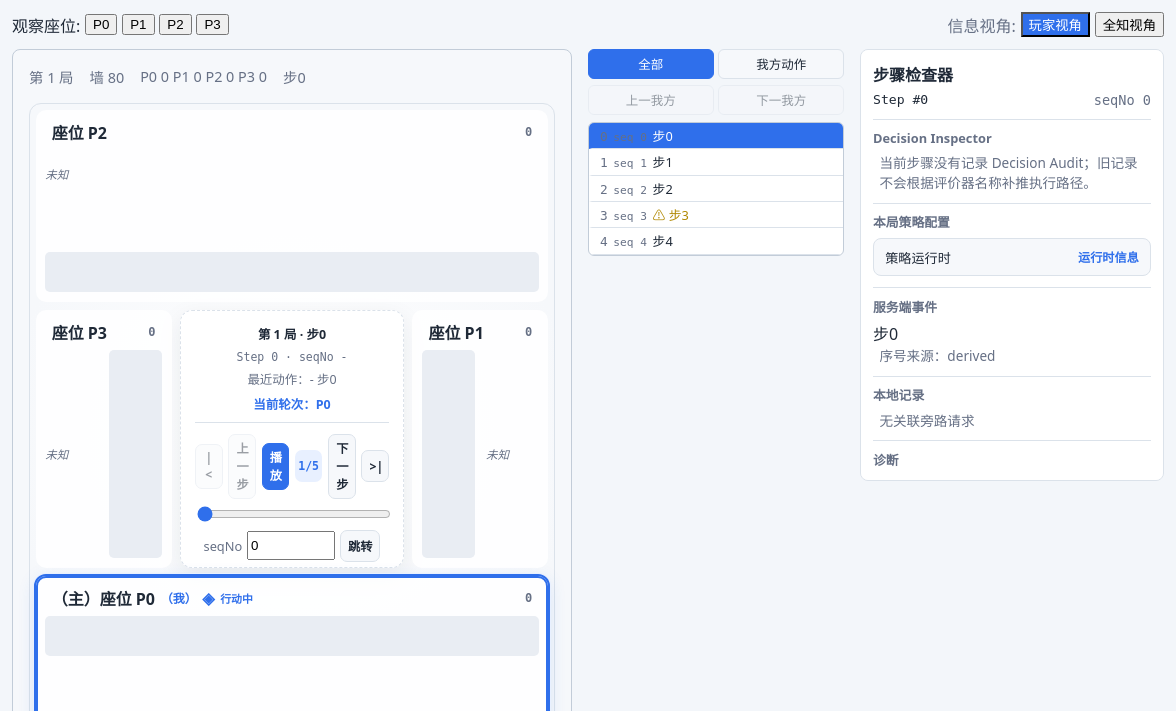
Test case: ReplayControls 步进与进度 › 支持首尾和 seqNo 跳转,缺口时不跳到未来步骤
The width and height of the screenshot is (1176, 711).
Step 1. Replace the text in the number field with test id "seq-input" with "3" → (291, 546), box [247,531,335,560]
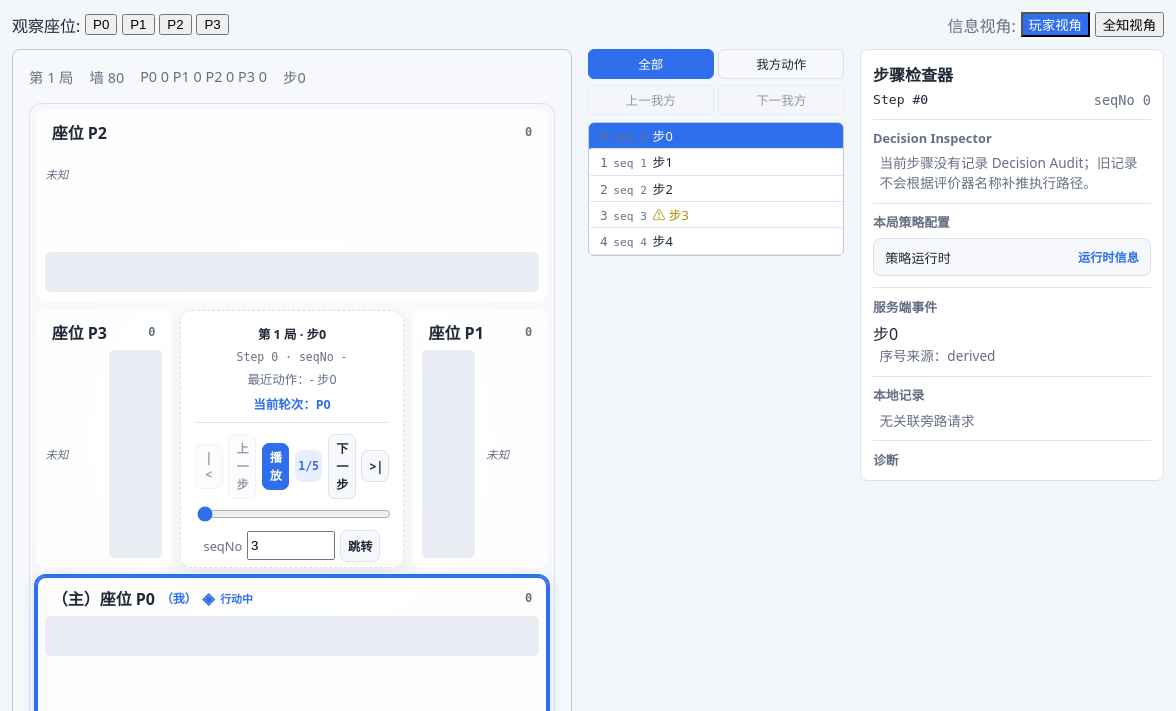
Step 2. Click the button with test id "btn-seq-jump" → (360, 546), box [340,530,380,562]
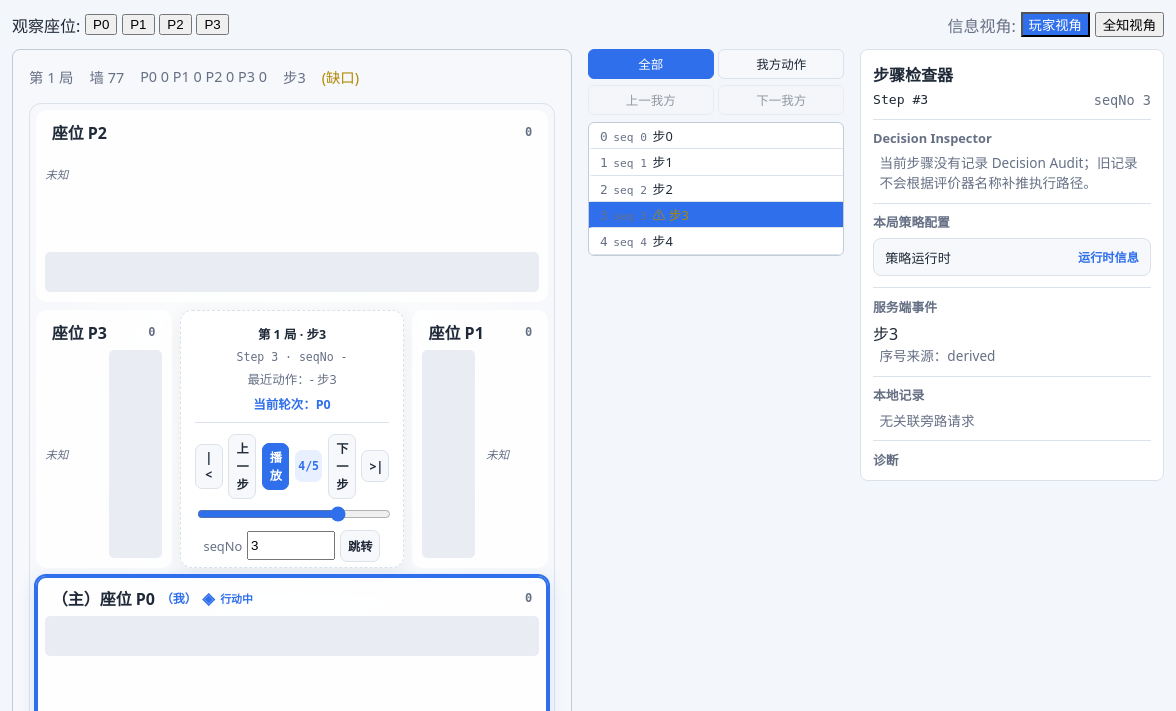
Now the text with test id "index" reads "4/5", box [298,459,319,473]
Step 3. Click the button with test id "btn-first" → (209, 466), box [195,444,223,488]
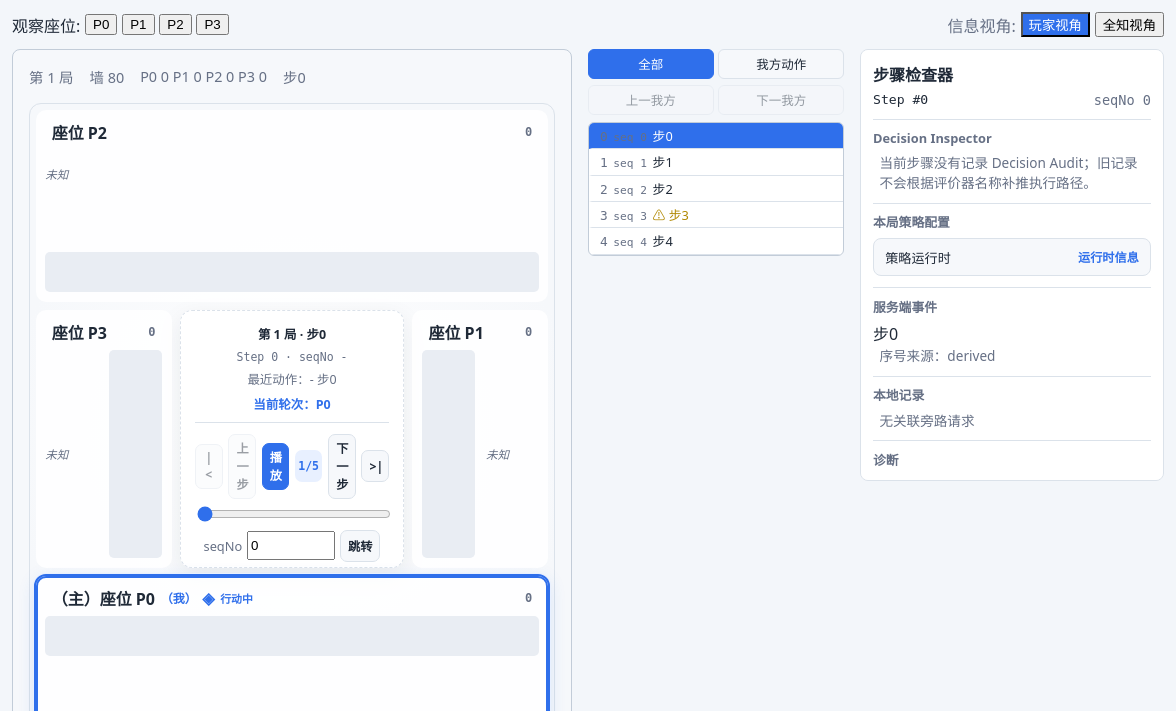
Now the text with test id "index" reads "1/5", box [298,459,319,473]
Step 4. Click the button with test id "btn-last" → (375, 466), box [361,450,389,482]
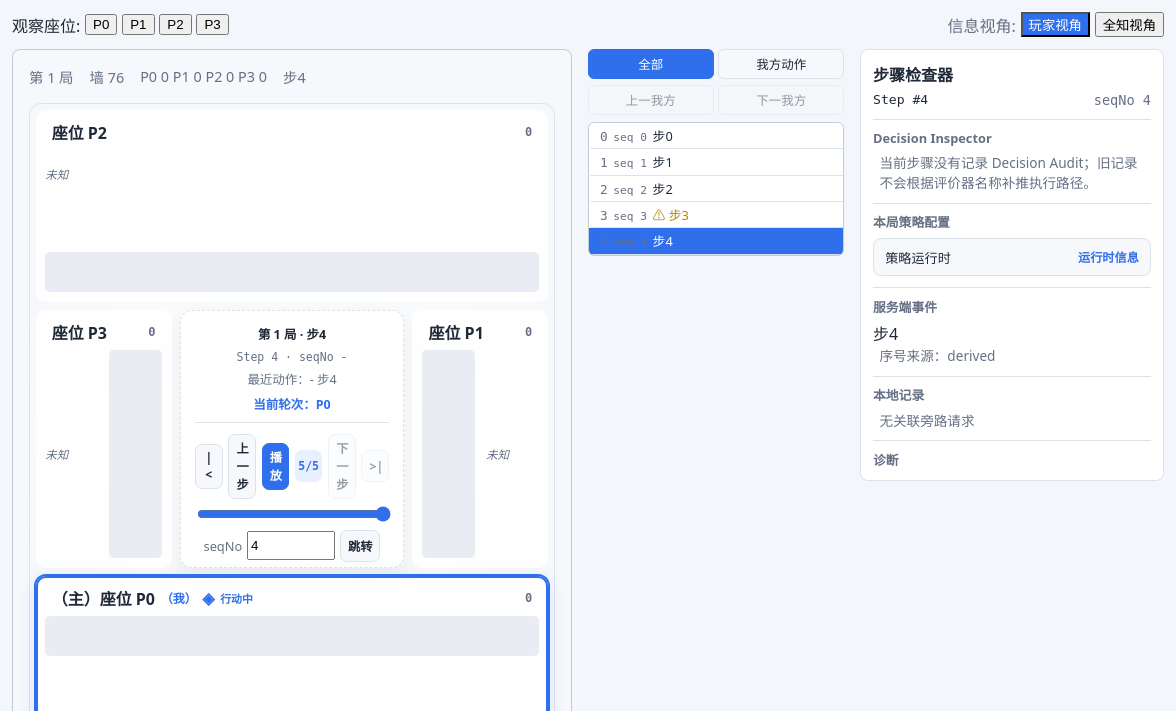
Now the text with test id "index" reads "5/5", box [298,459,319,473]
